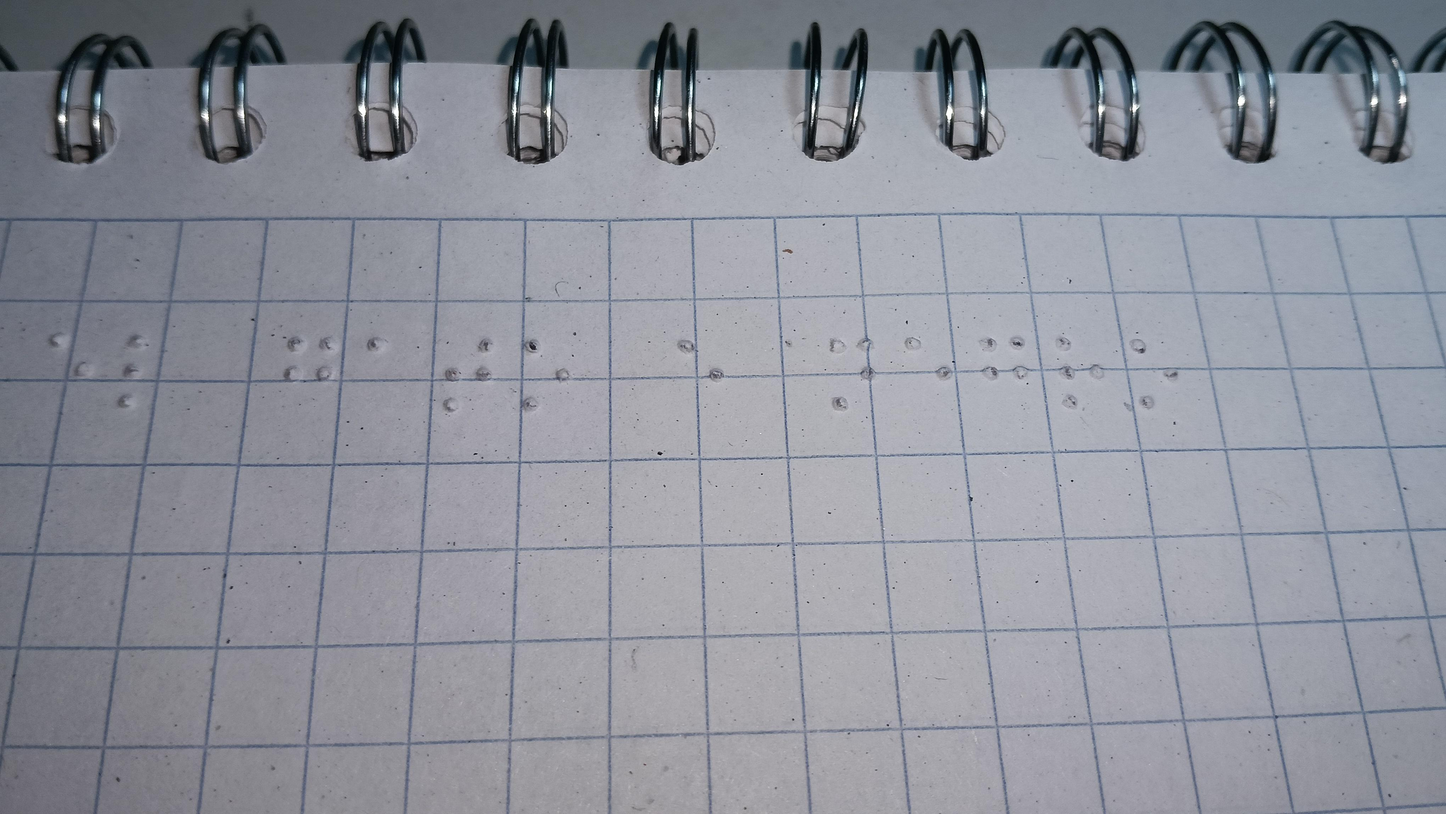a: (349, 320, 397, 417)
e: (34, 313, 104, 423), (661, 321, 737, 411)
g: (269, 320, 344, 428)
l: (105, 316, 160, 420)
o: (509, 327, 584, 426)
t: (429, 325, 505, 424)
